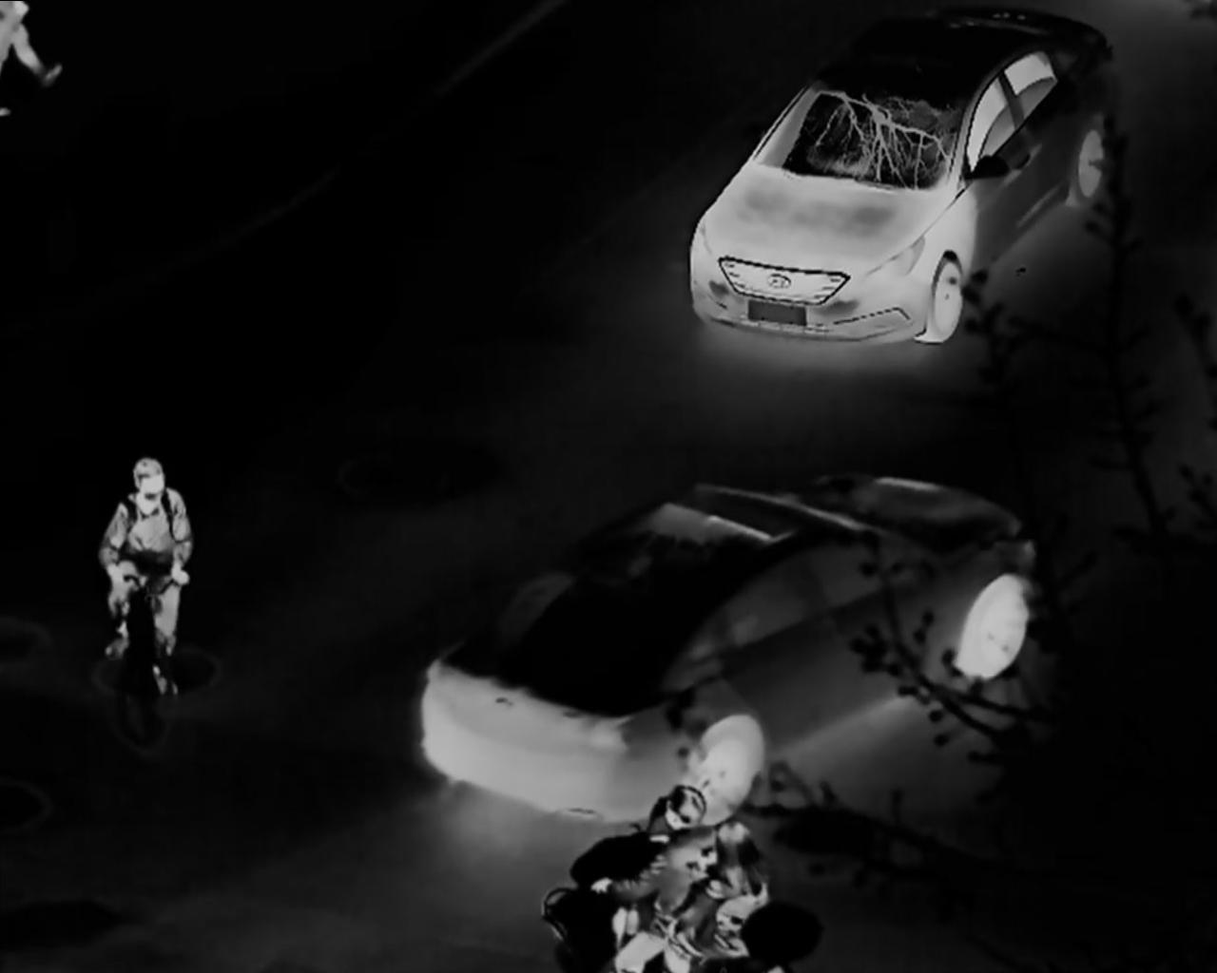person: (591, 786, 714, 973), (99, 457, 193, 658), (706, 821, 770, 959)
